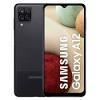Smartphone: (16, 4, 85, 98)
